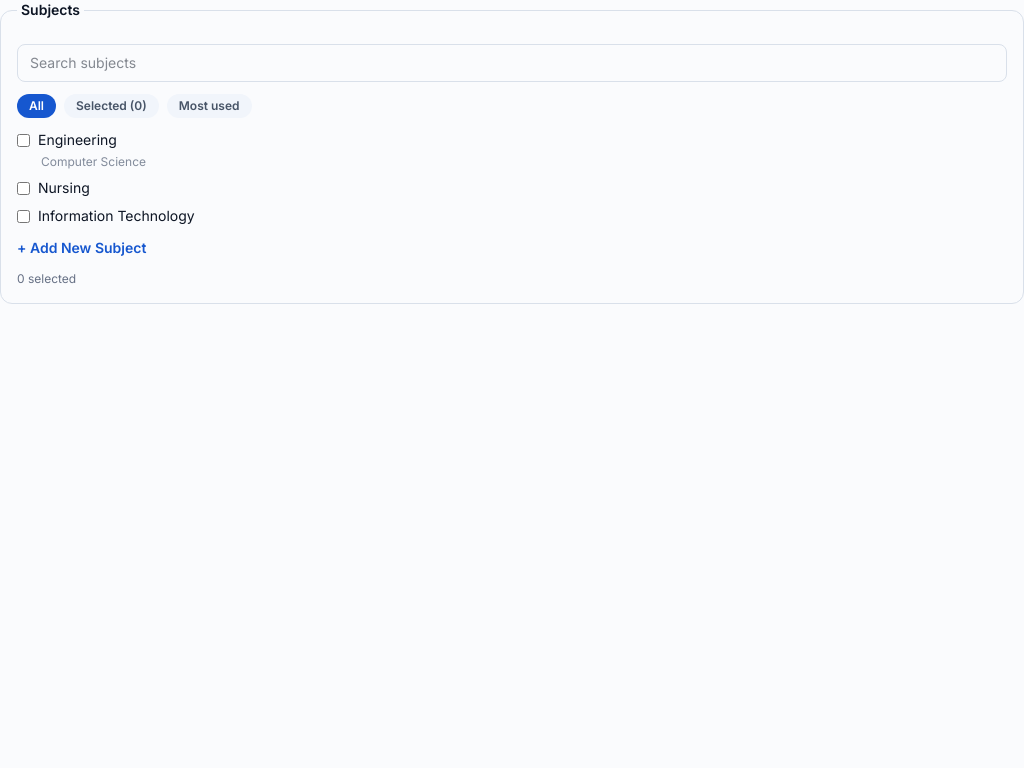
Test case: country taxonomy picker › never submits the surrounding country form from the dialog
Click the button "+ Add New Subject": (82, 248) x1=17 y1=238 x2=146 y2=258
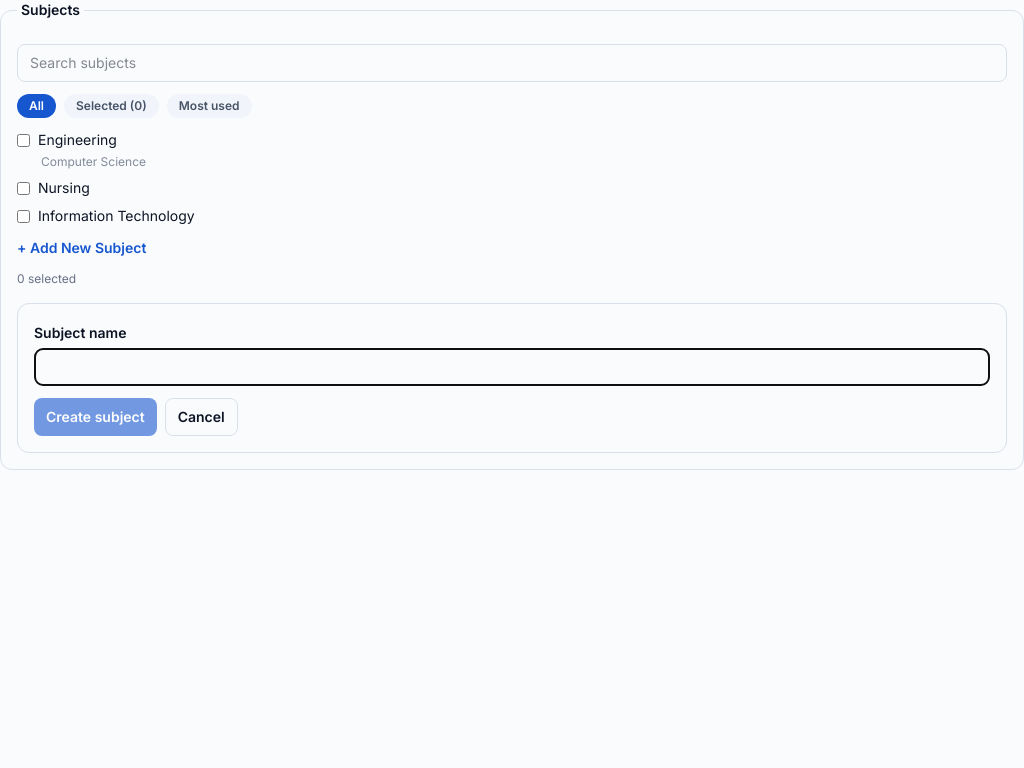
In the field labelled "Subject name": (512, 367) x1=34 y1=348 x2=990 y2=386, type "Something New"
Then press Enter
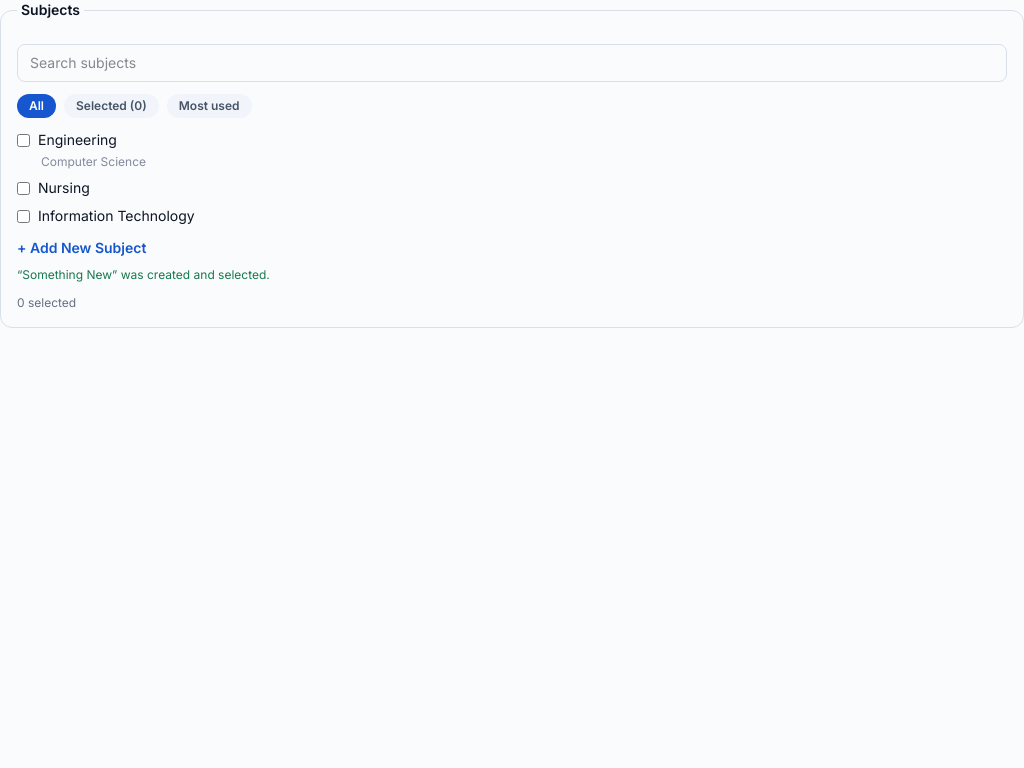
Expected: the dialog is gone
